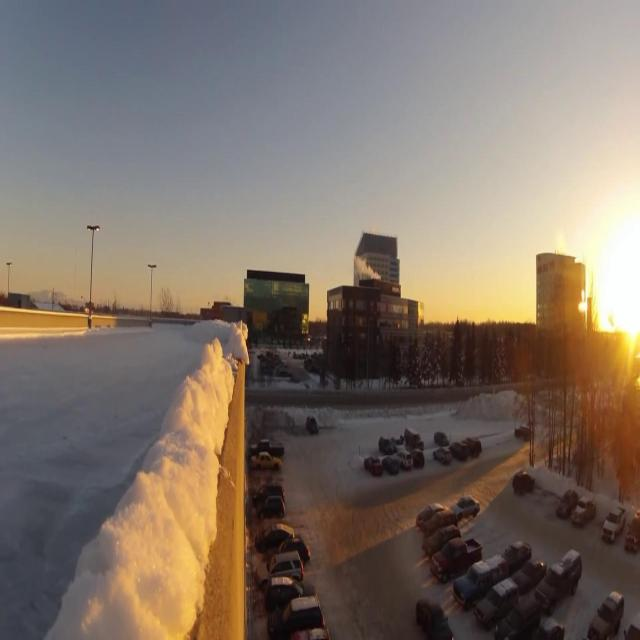Fire: (354, 257, 384, 282)
